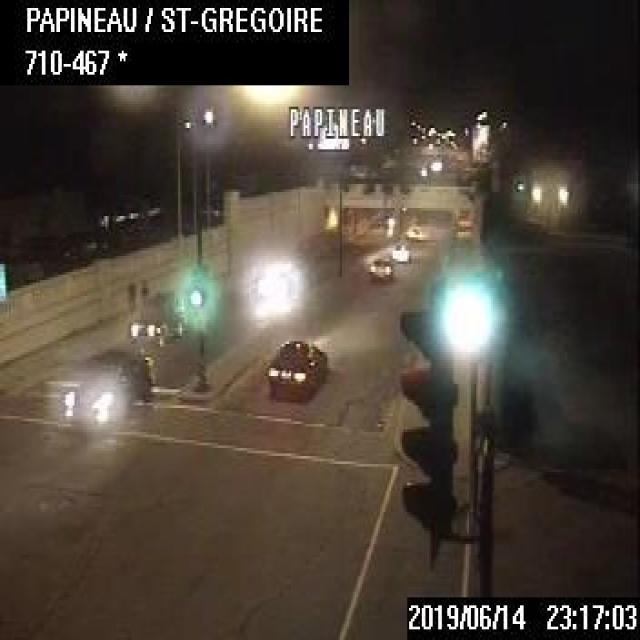vehicle: (60, 341, 145, 419), (266, 339, 324, 392), (127, 294, 180, 342), (368, 240, 406, 277)
